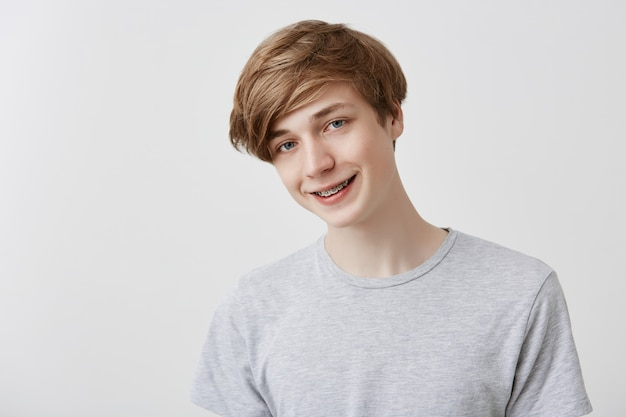teen: (211, 2, 411, 241)
